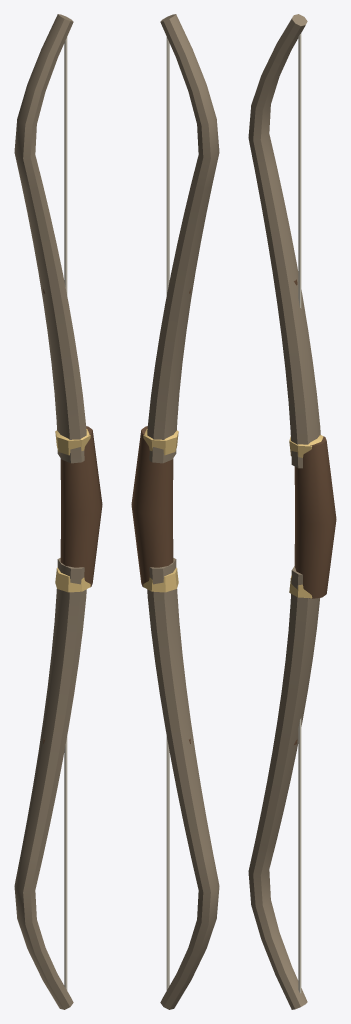
The model's file is composite_bow.glb.
3 views of the same model, side by side, from view 1: azimuth 30°, elevation 25°; view 2: azimuth 150°, elevation 25°; view 3: azimuth 330°, elevation 25° (orthographic).
Visible parts, largest first — view 1: composite_bow; view 2: composite_bow; view 3: composite_bow.
Part boxes in pixels (<box>): composite_bow: <box>14,14,102,1009</box>; composite_bow: <box>131,14,219,1009</box>; composite_bow: <box>248,14,336,1009</box>.
Size of the model in its own units: 0.1145 by 1.31 by 0.044.
